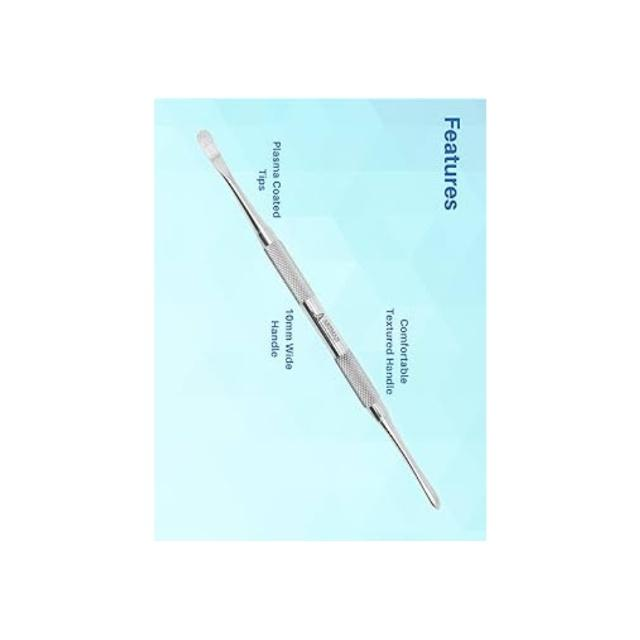elevador: (195, 130, 443, 511)
